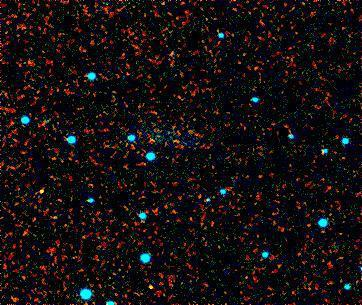star: (26, 175, 56, 205)
